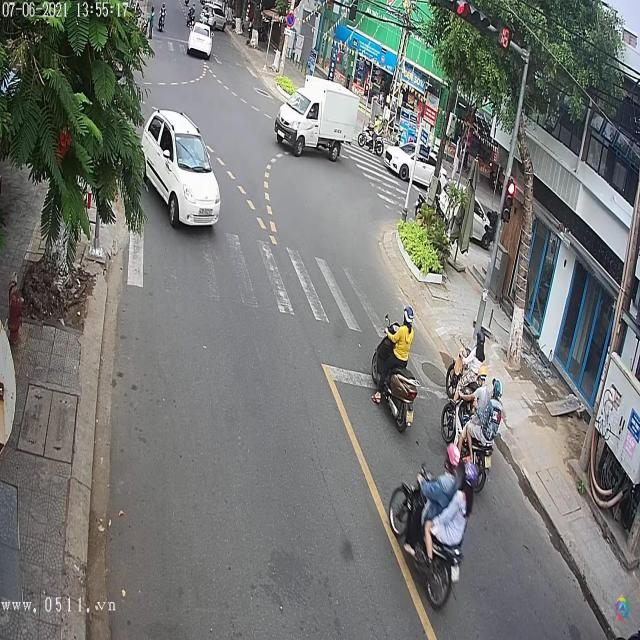car: (142, 108, 224, 230), (384, 129, 451, 191), (186, 25, 213, 60)
motorcycle: (381, 455, 473, 613), (439, 381, 493, 491), (370, 318, 418, 432)
truck: (273, 80, 362, 164)
